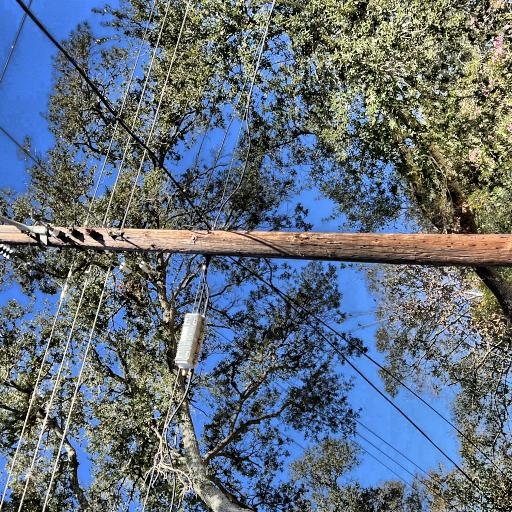pole: (108, 0, 179, 512)
street light: (143, 0, 231, 170)
